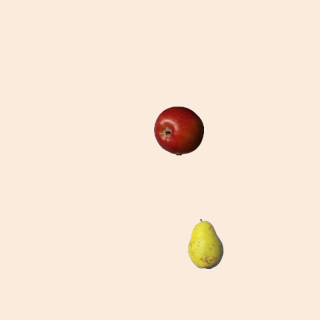Apple Braeburn: (153, 105, 203, 155)
Pear Monster: (180, 218, 230, 268)
